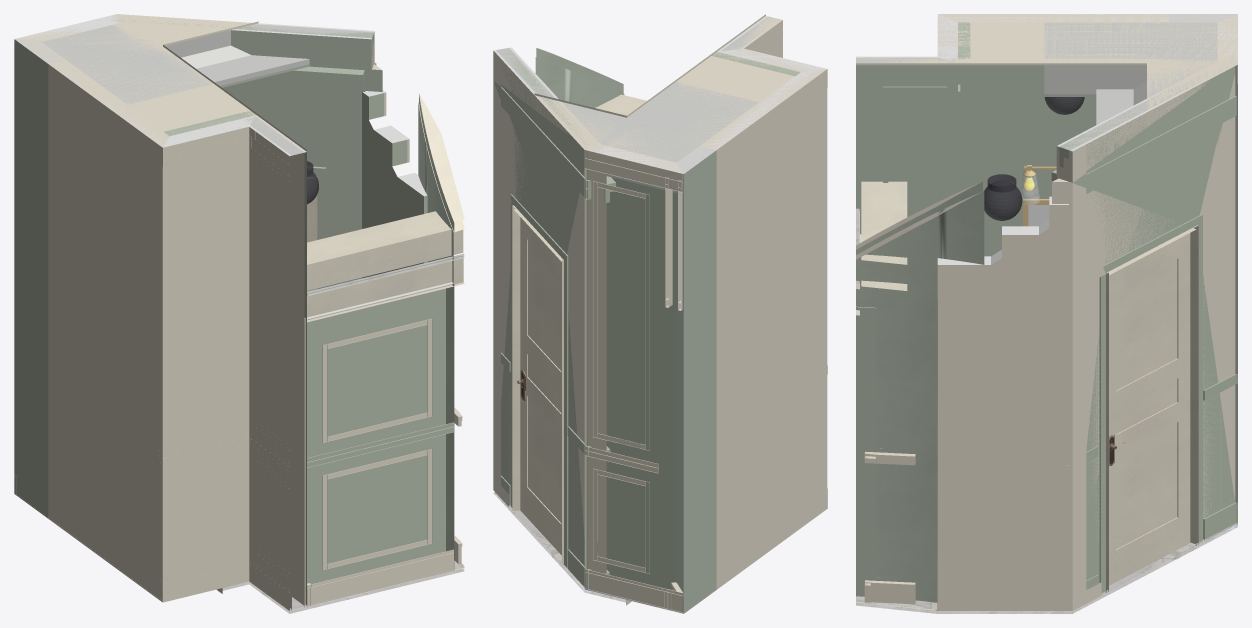
Rendered from powder-room-4ef49dcb8b72.glb.
3 renders of one model, left to right at view 1: azimuth 30°, elevation 25°; view 2: azimuth 150°, elevation 25°; view 3: azimuth 270°, elevation 25°, orthographic. The views are drawn at different scales.
Visible parts, largest first — view 1: powder-room-d33eebe572d154f2, powder-room-1a8091885ac212af, powder-room-ab5cb5e7d303dd66, powder-room-85f0fd939e0fcc78, powder-room-9b21989b25895c4a, powder-room-a5eabba2ad6474eb, powder-room-2575515a05775d9e, powder-room-5b07a8f5f7929ff6, powder-room-ca6eafacc0f493ac, powder-room-3d7935a3f1355396, powder-room-261aa5c5ae0f77af, powder-room-b74e3495b7e70350 (+11 smaller); view 2: powder-room-d33eebe572d154f2, powder-room-a5eabba2ad6474eb, powder-room-b2b5f93b4255576d, powder-room-9b21989b25895c4a, powder-room-539cd4ce99668665, powder-room-2575515a05775d9e, powder-room-5b07a8f5f7929ff6, powder-room-86d6fc7292b21ae1, powder-room-ae2ab6de1156d266, powder-room-48dc2409da547ff7, powder-room-b74e3495b7e70350, powder-room-f5fbb4dd3b92b4c5 (+14 smaller); view 3: powder-room-d65b0a574c2ac13c, powder-room-a5eabba2ad6474eb, powder-room-b74e3495b7e70350, powder-room-539cd4ce99668665, powder-room-2575515a05775d9e, powder-room-d33eebe572d154f2, powder-room-85f0fd939e0fcc78, powder-room-5b07a8f5f7929ff6, powder-room-ab5cb5e7d303dd66, powder-room-48dc2409da547ff7, powder-room-86d6fc7292b21ae1, powder-room-48dd1d74e06d76de (+18 smaller).
Boxes of the visible parts, x1=… form: powder-room-d33eebe572d154f2: x1=48, y1=60, x2=167, y2=601; powder-room-1a8091885ac212af: x1=163, y1=116, x2=255, y2=602; powder-room-ab5cb5e7d303dd66: x1=306, y1=282, x2=454, y2=604; powder-room-85f0fd939e0fcc78: x1=243, y1=115, x2=306, y2=610; powder-room-9b21989b25895c4a: x1=14, y1=39, x2=64, y2=518; powder-room-a5eabba2ad6474eb: x1=97, y1=14, x2=382, y2=286; powder-room-2575515a05775d9e: x1=14, y1=14, x2=306, y2=155; powder-room-5b07a8f5f7929ff6: x1=42, y1=24, x2=309, y2=104; powder-room-ca6eafacc0f493ac: x1=307, y1=211, x2=463, y2=290; powder-room-3d7935a3f1355396: x1=362, y1=92, x2=426, y2=278; powder-room-261aa5c5ae0f77af: x1=306, y1=257, x2=464, y2=322; powder-room-b74e3495b7e70350: x1=418, y1=102, x2=464, y2=570; powder-room-d33eebe572d154f2: x1=701, y1=69, x2=827, y2=589; powder-room-a5eabba2ad6474eb: x1=493, y1=47, x2=606, y2=589; powder-room-b2b5f93b4255576d: x1=584, y1=145, x2=683, y2=593; powder-room-9b21989b25895c4a: x1=676, y1=146, x2=716, y2=613; powder-room-539cd4ce99668665: x1=520, y1=217, x2=561, y2=555; powder-room-2575515a05775d9e: x1=534, y1=14, x2=826, y2=173; powder-room-5b07a8f5f7929ff6: x1=562, y1=82, x2=758, y2=162; powder-room-86d6fc7292b21ae1: x1=512, y1=205, x2=563, y2=565; powder-room-ae2ab6de1156d266: x1=593, y1=181, x2=649, y2=450; powder-room-48dc2409da547ff7: x1=510, y1=194, x2=568, y2=567; powder-room-b74e3495b7e70350: x1=535, y1=57, x2=624, y2=107; powder-room-f5fbb4dd3b92b4c5: x1=585, y1=569, x2=682, y2=613; powder-room-d65b0a574c2ac13c: x1=937, y1=204, x2=1068, y2=610; powder-room-a5eabba2ad6474eb: x1=1052, y1=54, x2=1235, y2=610; powder-room-b74e3495b7e70350: x1=856, y1=191, x2=984, y2=610; powder-room-539cd4ce99668665: x1=1109, y1=233, x2=1190, y2=585; powder-room-2575515a05775d9e: x1=856, y1=14, x2=1237, y2=110; powder-room-d33eebe572d154f2: x1=938, y1=14, x2=1169, y2=256; powder-room-85f0fd939e0fcc78: x1=856, y1=56, x2=957, y2=234; powder-room-5b07a8f5f7929ff6: x1=1044, y1=22, x2=1217, y2=124; powder-room-ab5cb5e7d303dd66: x1=856, y1=234, x2=876, y2=596; powder-room-48dc2409da547ff7: x1=1099, y1=214, x2=1202, y2=594; powder-room-86d6fc7292b21ae1: x1=1106, y1=225, x2=1198, y2=592; powder-room-48dd1d74e06d76de: x1=1086, y1=96, x2=1236, y2=193.
Size of the model in its own units: 1.92 by 3.05 by 2.26.
29 materials, 6 textured.
